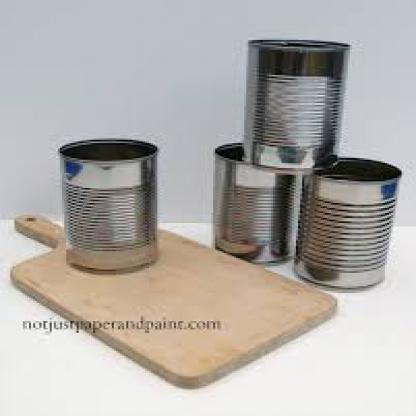Compsot: (292, 156, 399, 288), (240, 38, 344, 170), (56, 138, 157, 273), (213, 141, 294, 264)
